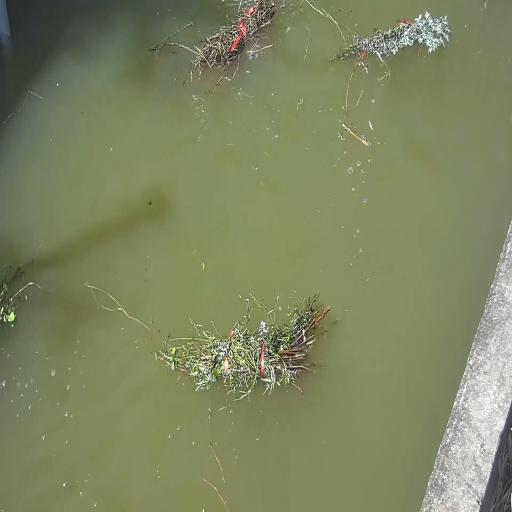twig: (167, 290, 323, 393), (185, 0, 281, 85), (344, 0, 450, 75), (0, 259, 34, 332)
